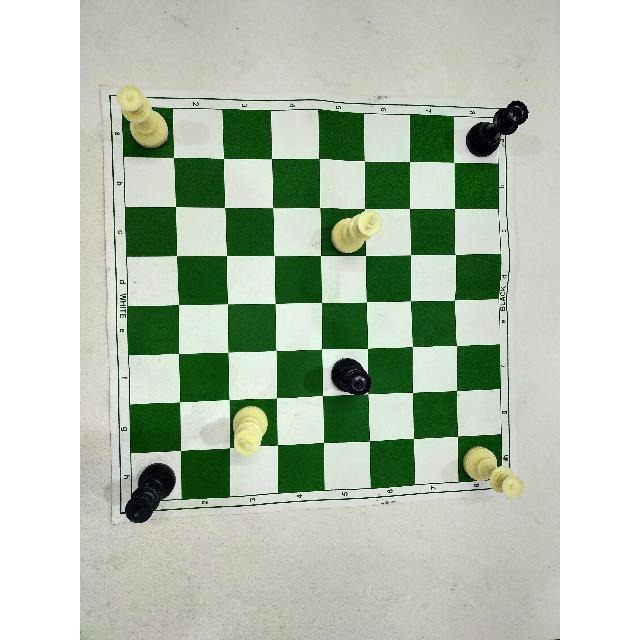black-king: (122, 458, 178, 526)
black-queen: (460, 98, 532, 164), (461, 98, 530, 162), (122, 462, 175, 529), (326, 354, 373, 406), (328, 356, 376, 402)
white-king: (457, 437, 530, 504), (328, 205, 384, 258), (230, 402, 277, 464), (329, 206, 384, 255)
white-queen: (109, 78, 174, 153), (113, 80, 171, 151), (463, 443, 527, 498), (226, 400, 279, 462)
